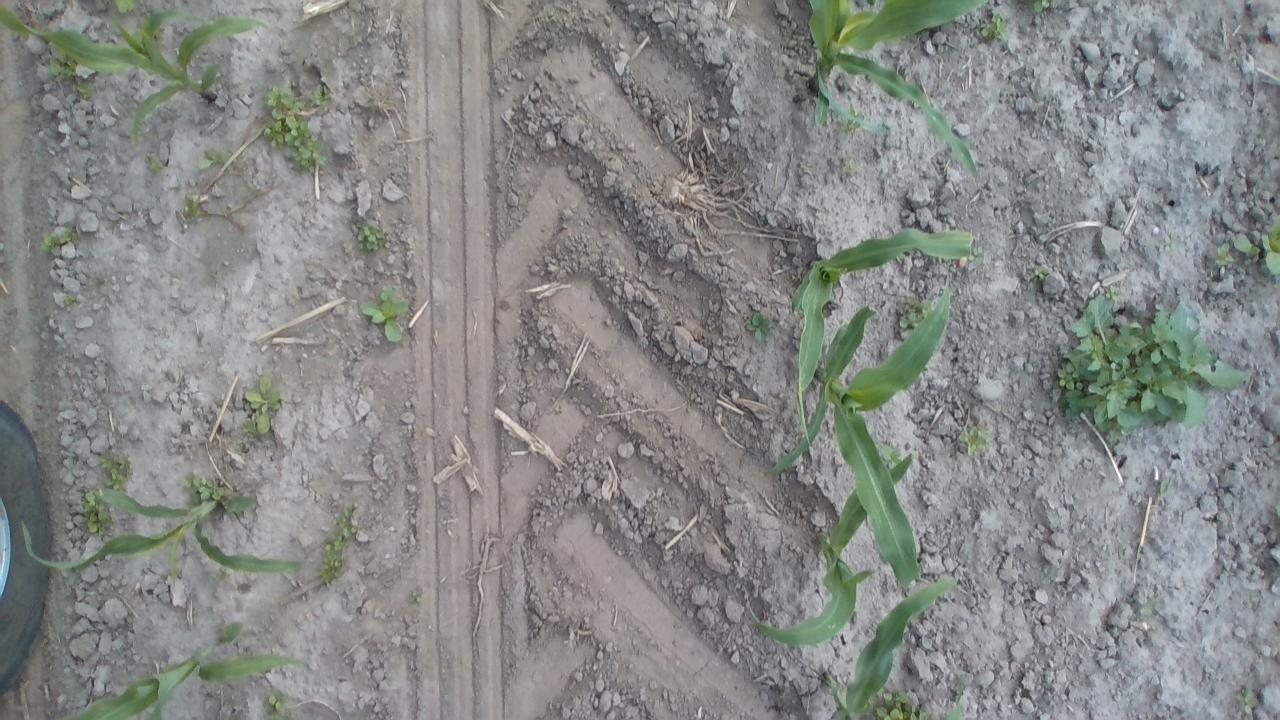Maize: (762, 274, 956, 593), (789, 221, 976, 456), (2, 2, 279, 140), (798, 0, 994, 184), (745, 446, 914, 648), (20, 485, 305, 578), (64, 619, 310, 720), (816, 572, 960, 720)
Weeds: (1055, 282, 1247, 436), (262, 83, 327, 178), (314, 504, 363, 584), (359, 283, 408, 345), (244, 374, 282, 436), (875, 690, 930, 720), (80, 488, 112, 536), (1259, 212, 1280, 277), (182, 469, 224, 500), (98, 452, 134, 488), (742, 309, 776, 345), (957, 424, 992, 457), (898, 294, 928, 332), (978, 12, 1012, 45), (261, 688, 292, 718), (46, 53, 80, 79), (354, 220, 381, 252), (1212, 239, 1237, 272), (1235, 684, 1259, 716), (844, 102, 866, 134), (196, 148, 228, 170), (1234, 232, 1258, 256), (178, 193, 200, 217), (1020, 0, 1054, 15), (144, 152, 168, 173), (206, 567, 232, 586), (880, 444, 900, 463), (1138, 599, 1158, 617), (1032, 265, 1052, 283), (39, 231, 57, 251), (60, 290, 78, 308), (1104, 284, 1121, 302), (1156, 482, 1170, 502), (74, 84, 92, 99), (118, 0, 134, 16), (840, 156, 854, 173), (58, 226, 70, 243), (410, 588, 423, 602), (207, 264, 217, 280), (232, 438, 242, 448)
